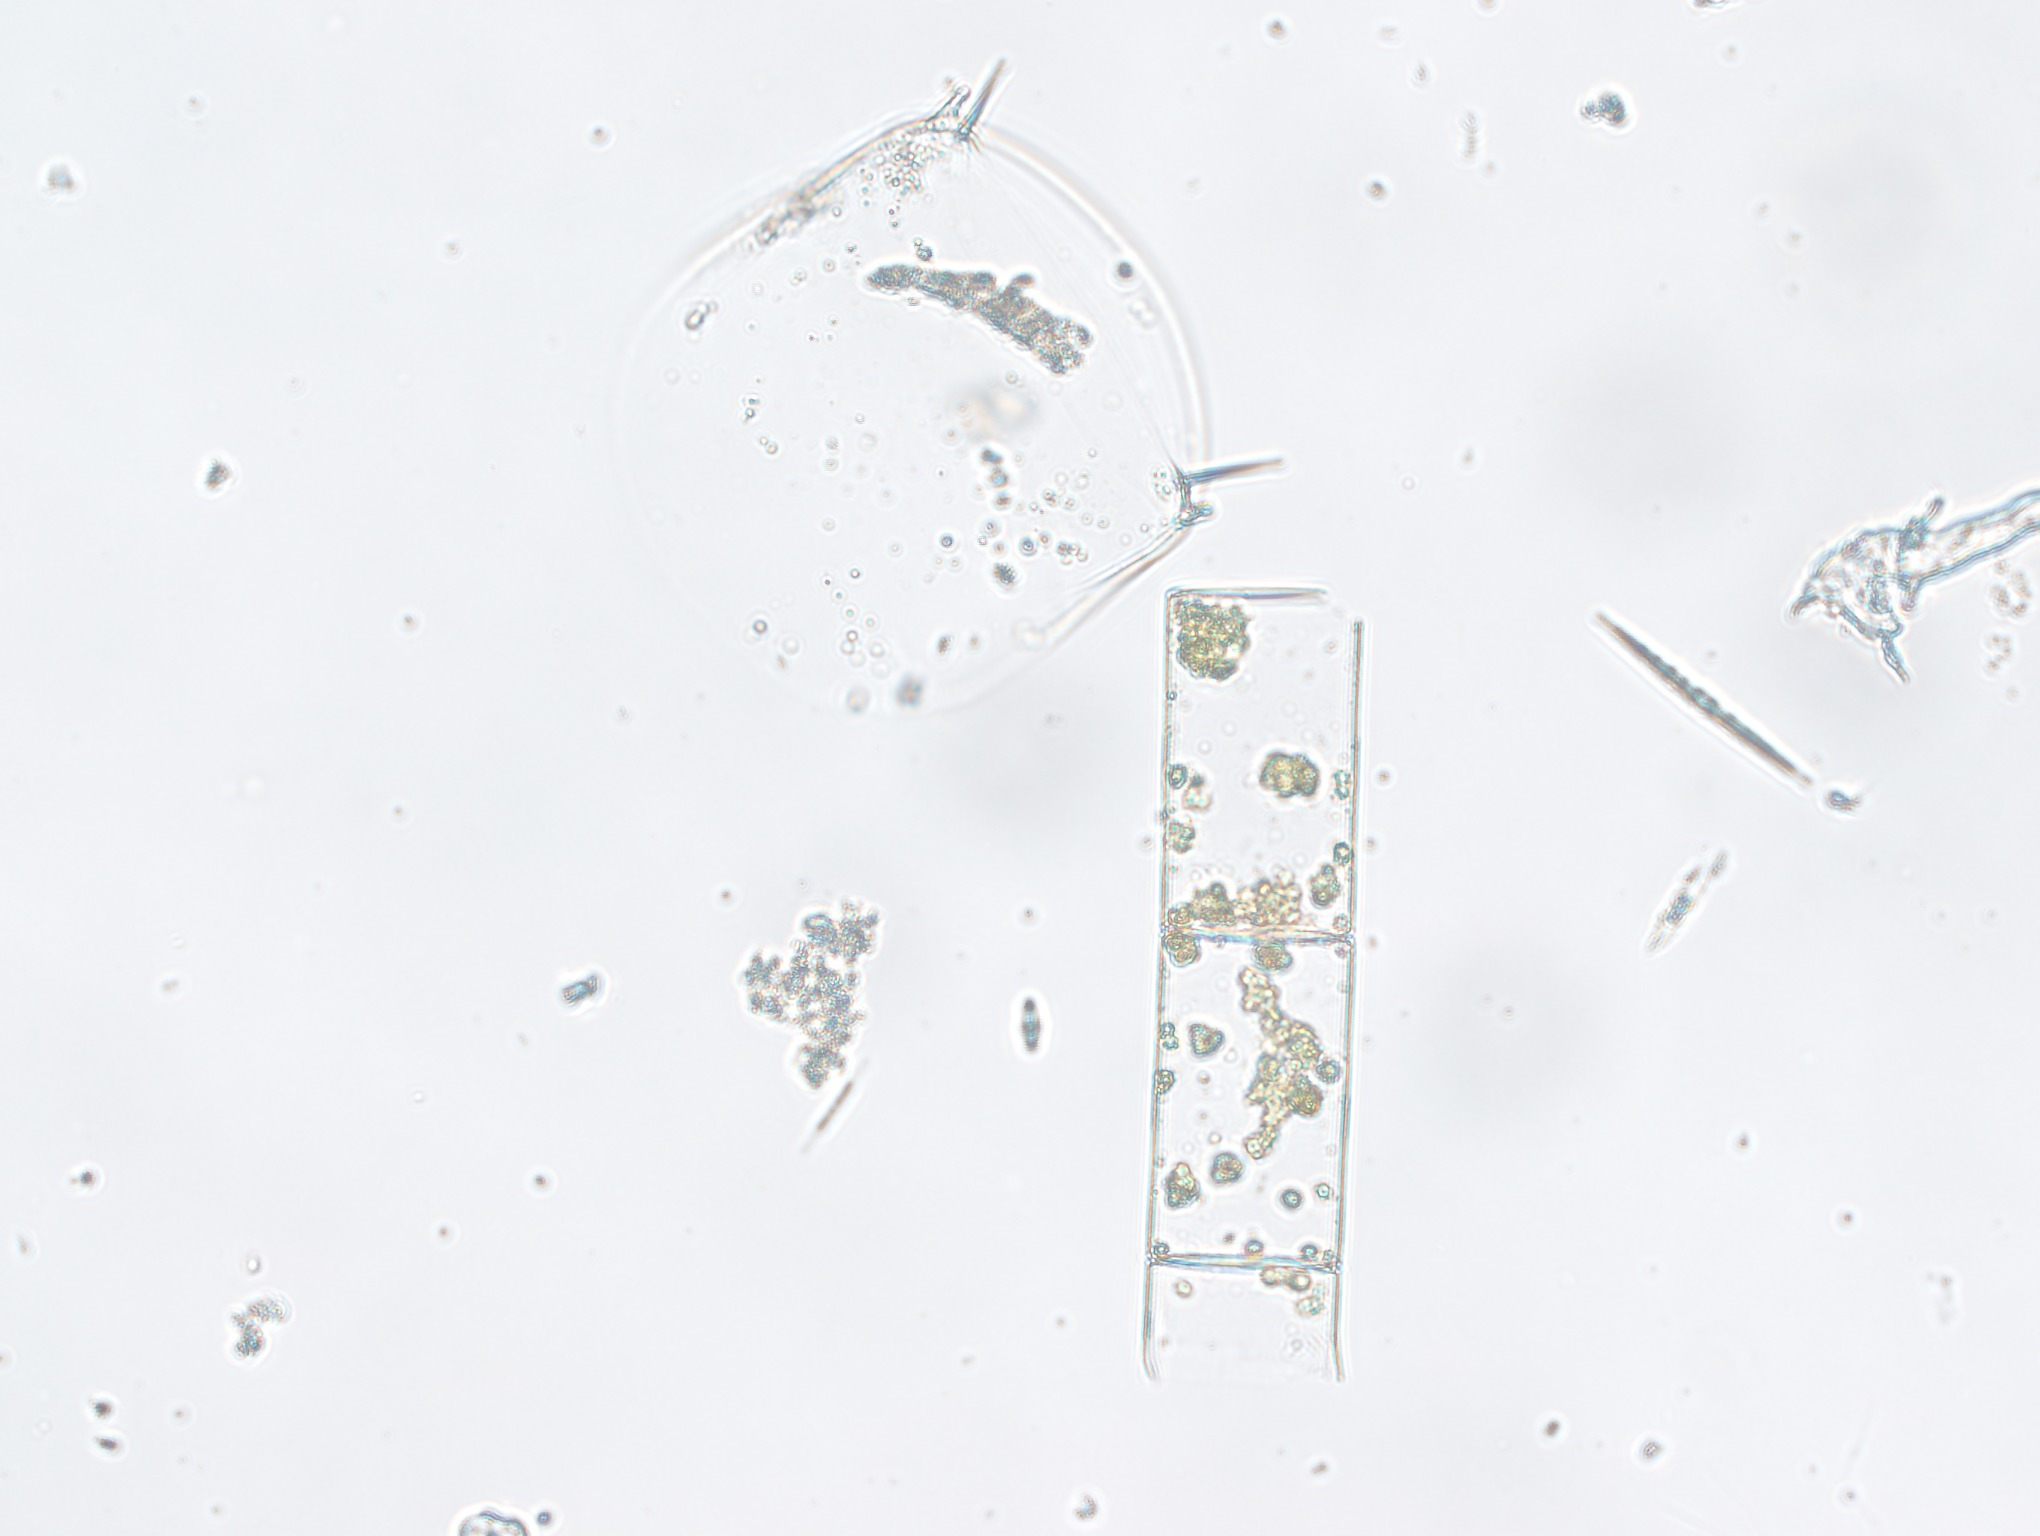guinardia flaccida: (1126, 570, 1384, 1397)
pleurosigma pelagicum: (1590, 603, 1824, 803)
